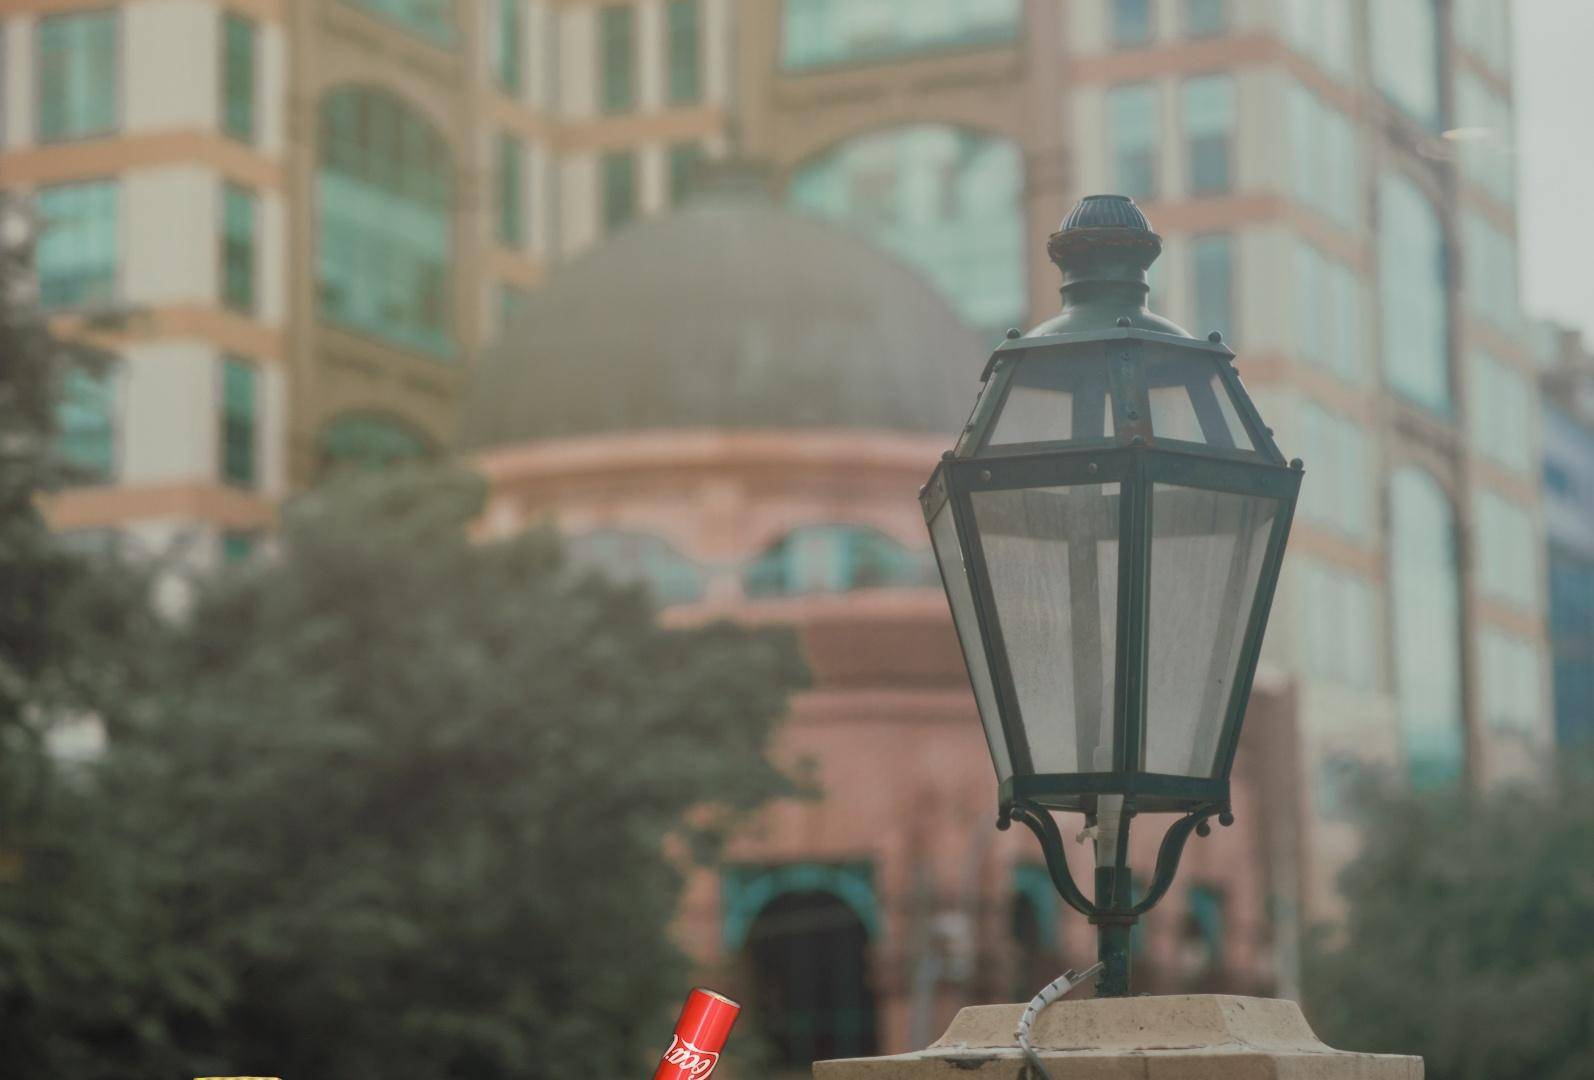battery: (190, 1073, 330, 1080)
metal-cans: (639, 981, 745, 1080)
trashbox-cardboard: (1589, 588, 1594, 916)
